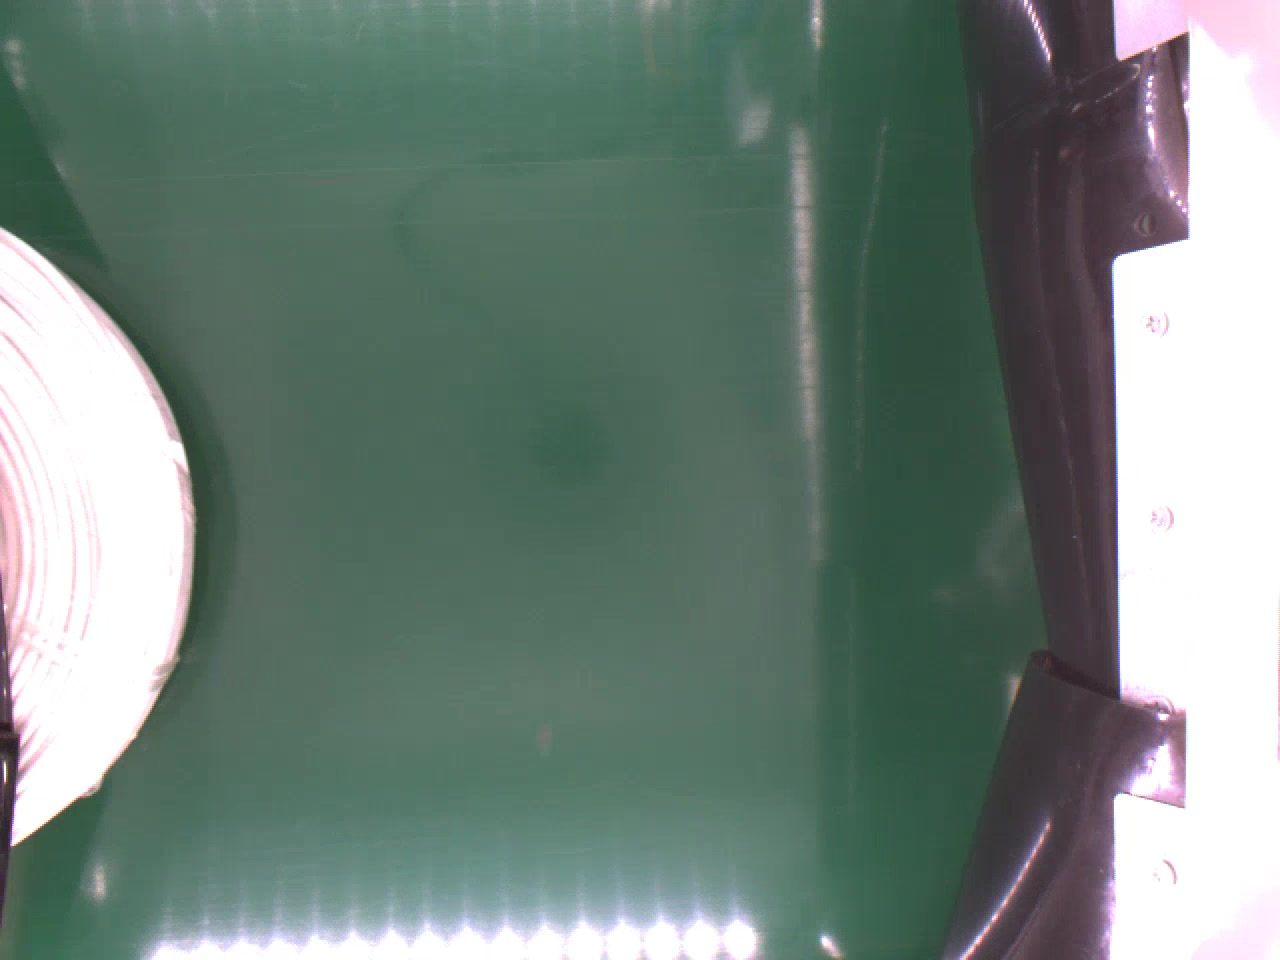white: (0, 216, 198, 834)
